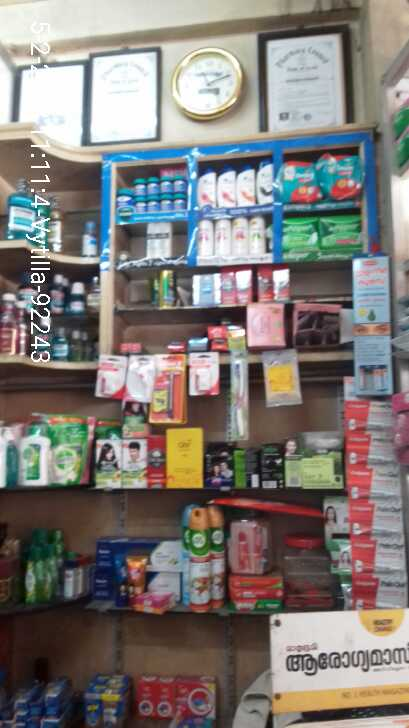vicks: (121, 169, 191, 218)
